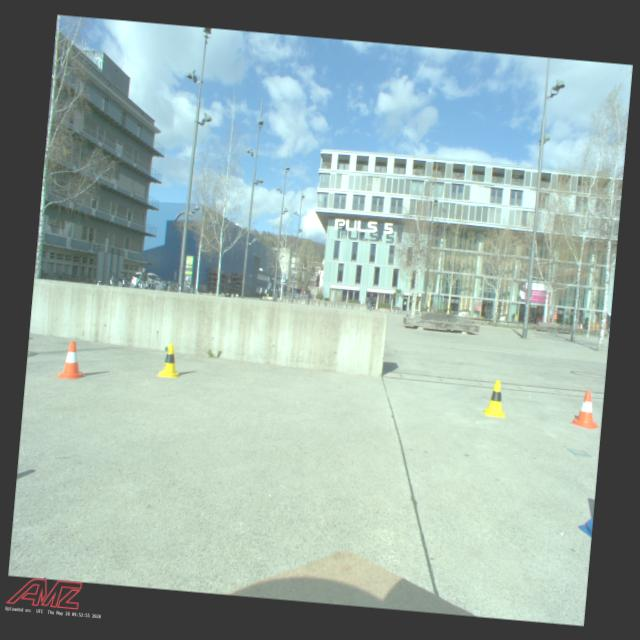orange_cone: (55, 338, 89, 381), (568, 389, 602, 429)
yellow_cone: (482, 378, 508, 418), (156, 342, 182, 378)
